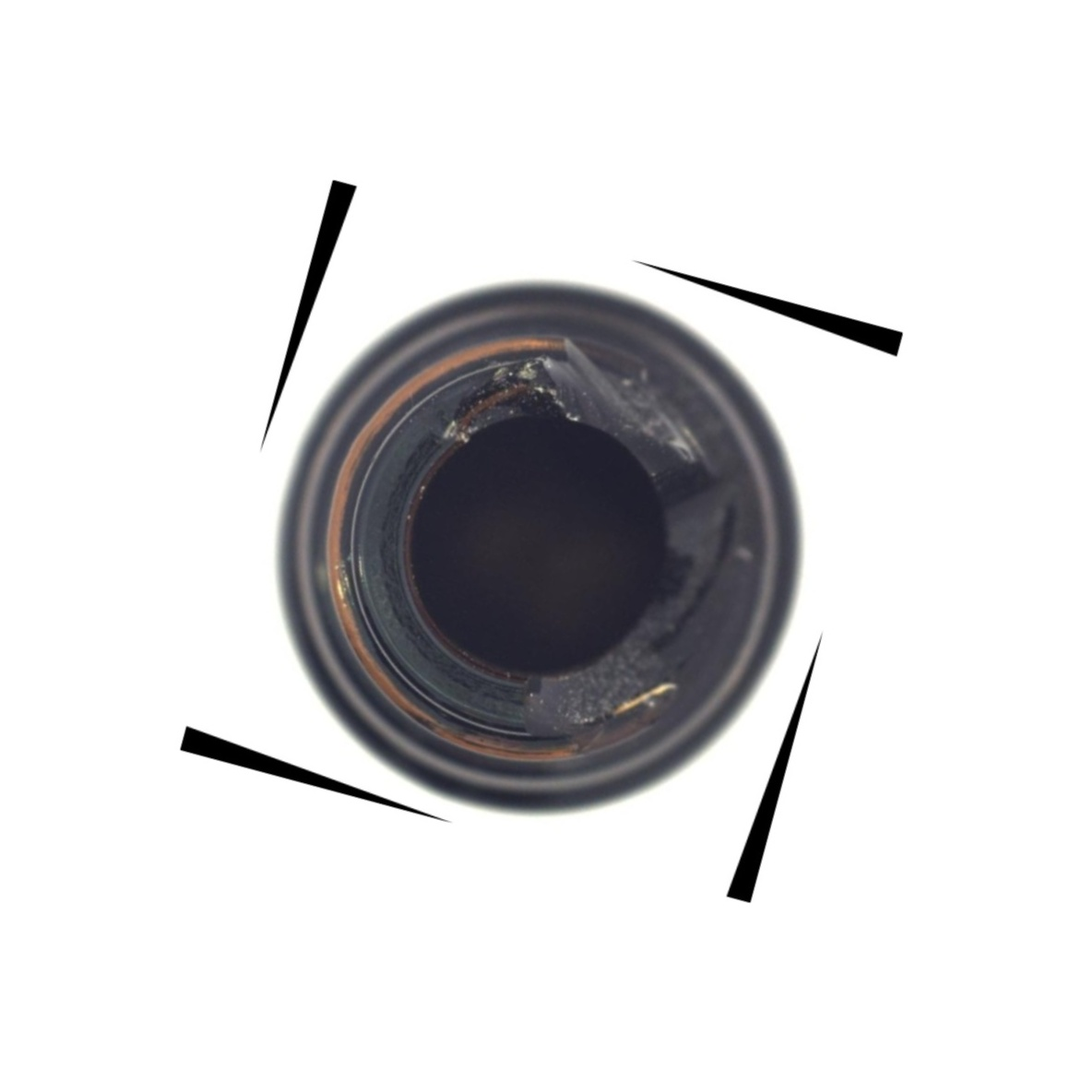bad-broken_large: (63, 55, 1028, 1046)
